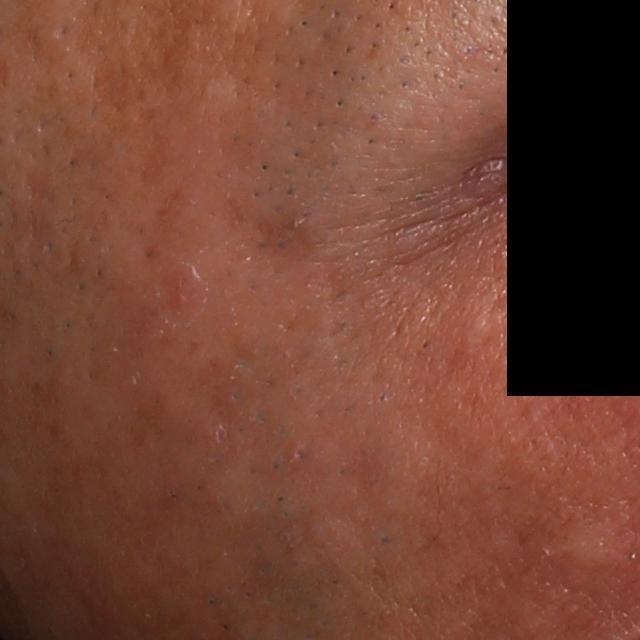hypertrophic_scar: (548, 521, 630, 568)
